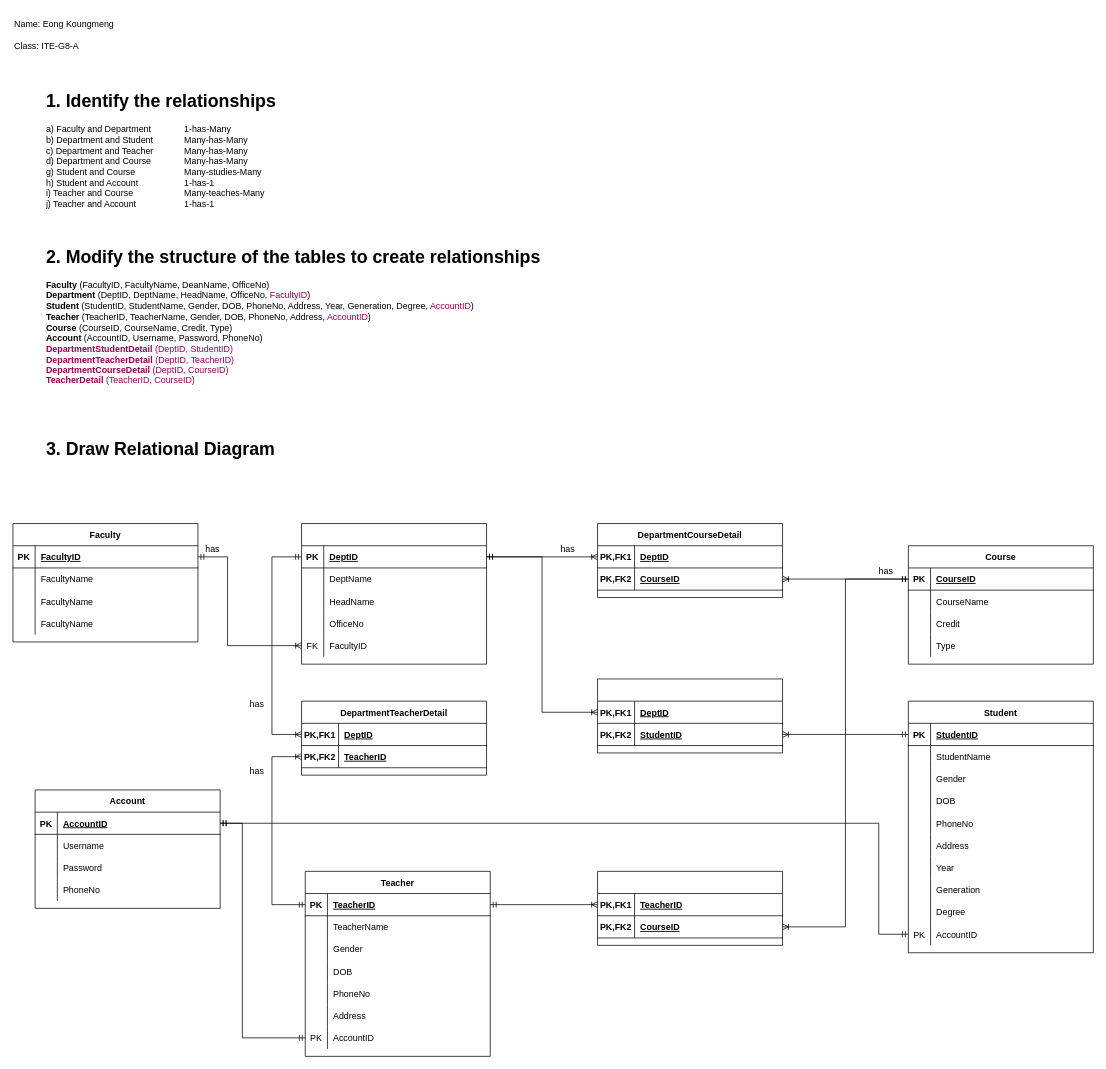
The diagram is 1106 pixels wide and 1069 high, and some of its shapes have lost their labels. The box of each missing label's shape, as (x1, y1, x2, y2) in pixels:
Department: (301, 523, 487, 664)
DepartmentStudentDetail: (597, 678, 783, 753)
TeacherDetail: (597, 871, 783, 945)
